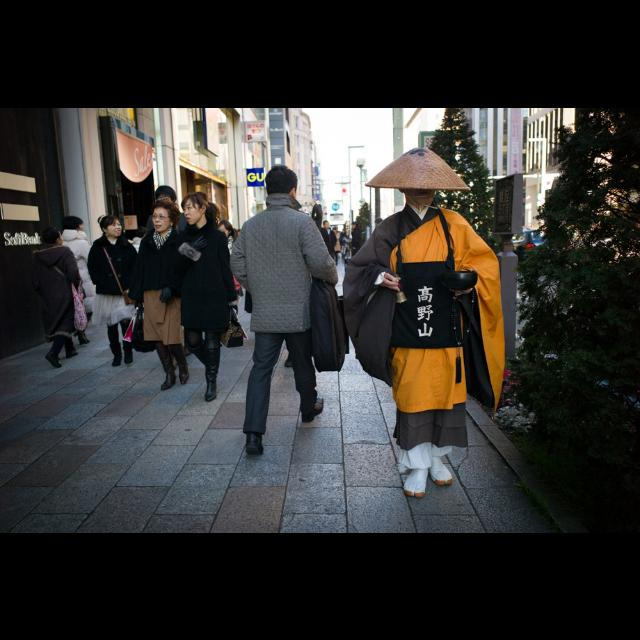head: (397, 168, 437, 206), (264, 166, 298, 204), (182, 192, 208, 225), (152, 202, 178, 232), (42, 226, 64, 250), (101, 215, 123, 237), (65, 215, 85, 232), (324, 221, 331, 229), (352, 221, 358, 229), (333, 225, 339, 232)
person: (340, 145, 508, 499), (230, 160, 352, 458), (162, 189, 250, 403), (132, 200, 194, 394), (86, 211, 144, 369), (29, 221, 90, 371), (54, 214, 104, 346), (318, 217, 338, 271), (348, 220, 364, 268), (329, 225, 343, 268)
